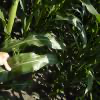Corn leaf blight: (11, 53, 56, 82), (1, 32, 63, 52)
